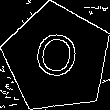O_S: (31, 29, 83, 88)
